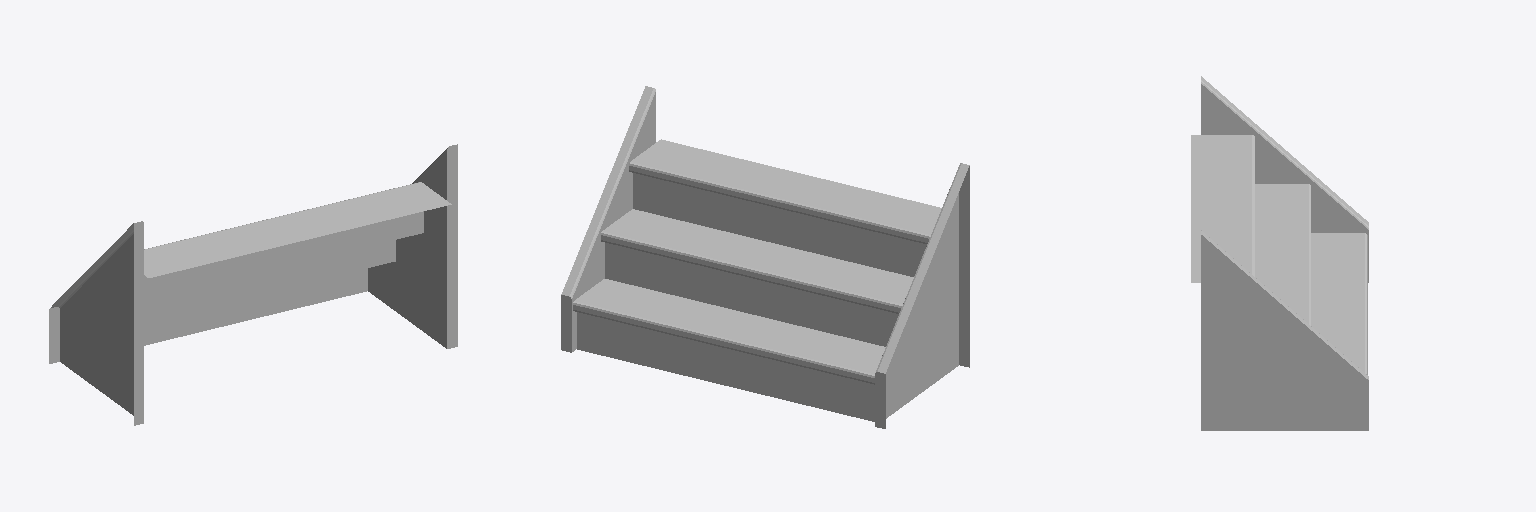
The model's file is Staircase.obj.
3 renders of one model, left to right at view 1: azimuth 30°, elevation 25°; view 2: azimuth 150°, elevation 25°; view 3: azimuth 270°, elevation 25°, orthographic.
Visible parts, largest first — view 1: Stair_01b_LP, Stair_01a_LP; view 2: Stair_01b_LP, Stair_01a_LP; view 3: Stair_01a_LP, Stair_01b_LP.
Boxes of the visible parts, <box> form: Stair_01b_LP: <box>144,182,451,345</box>; Stair_01a_LP: <box>49,144,457,425</box>; Stair_01b_LP: <box>573,139,941,421</box>; Stair_01a_LP: <box>561,86,969,428</box>; Stair_01a_LP: <box>1201,76,1368,430</box>; Stair_01b_LP: <box>1191,135,1367,374</box>.
Size of the model in its own units: 1 by 0.5974 by 0.4755.